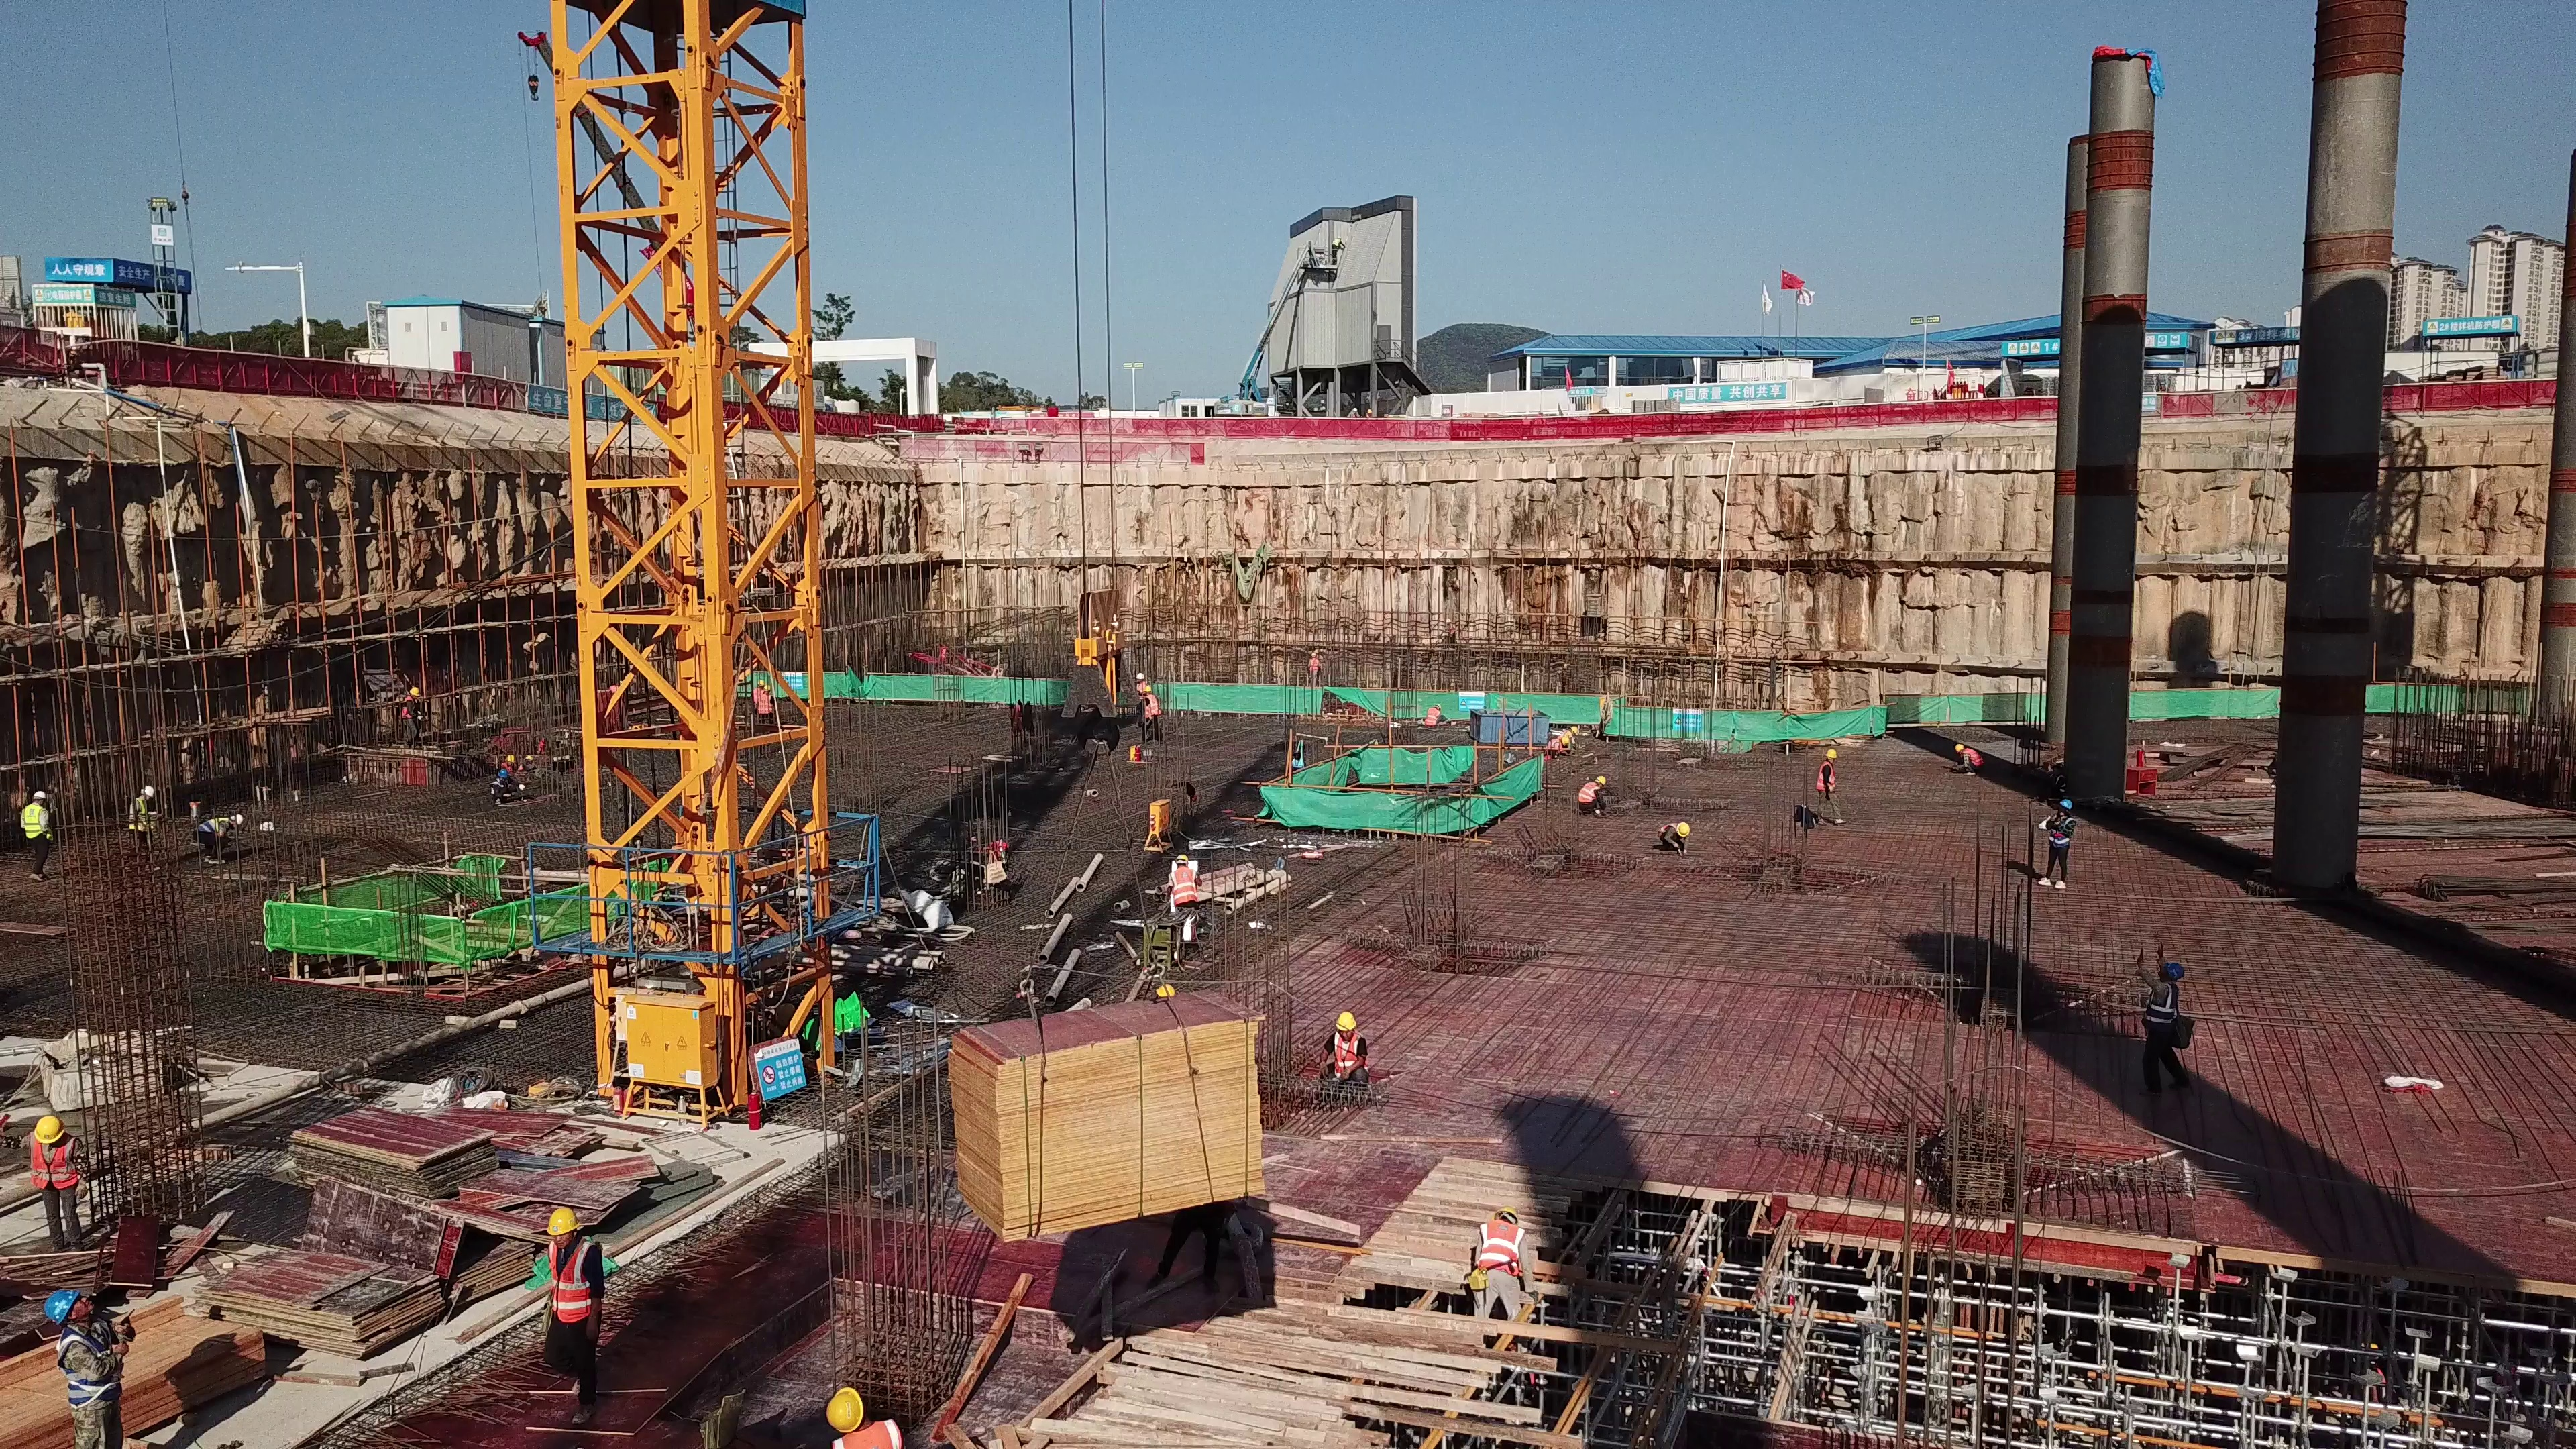board: (945, 989, 1264, 1236), (240, 1070, 512, 1358)
brick: (1632, 396, 1682, 410)
ebox: (604, 972, 737, 1128), (1140, 804, 1175, 859)
fence: (113, 341, 519, 420), (1157, 402, 1428, 449)
helmet: (827, 1393, 864, 1423), (45, 1287, 72, 1323), (33, 1115, 66, 1141), (546, 1204, 580, 1230), (2162, 961, 2188, 979), (1593, 771, 1615, 791), (1331, 1014, 1355, 1029), (1491, 1207, 1521, 1218), (233, 810, 250, 830), (1677, 823, 1693, 838), (27, 790, 45, 803), (2056, 800, 2074, 813), (1173, 851, 1189, 865), (1572, 723, 1584, 741), (1825, 747, 1838, 763), (496, 767, 510, 780), (142, 784, 152, 798), (410, 687, 422, 697), (1955, 744, 1964, 752), (1560, 737, 1569, 744)
hook: (1066, 587, 1134, 718), (521, 71, 550, 107)
hopper: (1471, 704, 1549, 748)
person: (527, 1194, 620, 1432), (36, 1279, 132, 1449), (2114, 936, 2197, 1096), (27, 1112, 114, 1250), (1466, 1202, 1546, 1346), (1162, 847, 1229, 968), (815, 1381, 903, 1449), (2029, 798, 2080, 896), (1322, 1012, 1375, 1102), (11, 775, 54, 879), (120, 779, 166, 875), (192, 804, 250, 874), (1811, 746, 1849, 831), (1651, 818, 1701, 867), (396, 686, 428, 745), (1138, 685, 1169, 742), (486, 770, 533, 808), (1944, 742, 1990, 780), (1573, 776, 1614, 820), (1131, 671, 1146, 737), (1420, 698, 1452, 731), (755, 684, 779, 724), (1302, 653, 1327, 688), (1542, 734, 1573, 761), (496, 755, 520, 769)
slogan: (523, 386, 663, 426), (40, 246, 113, 288), (120, 264, 213, 296), (2006, 335, 2190, 348), (1667, 382, 1786, 401), (2208, 325, 2304, 346), (2433, 321, 2516, 331), (24, 288, 107, 296), (1570, 385, 1595, 394)
vest: (540, 1243, 601, 1320), (64, 1325, 121, 1396), (1479, 1222, 1536, 1285), (32, 1136, 80, 1190), (1329, 1036, 1368, 1076), (2147, 987, 2178, 1031), (1171, 867, 1199, 906), (125, 798, 155, 834), (2044, 816, 2074, 849), (1812, 763, 1837, 793), (197, 815, 230, 837), (23, 803, 44, 836), (1962, 748, 1985, 769), (1659, 818, 1676, 837), (1580, 782, 1597, 804), (1428, 708, 1442, 724), (1311, 657, 1321, 674)
wood: (1030, 1283, 1473, 1449)
